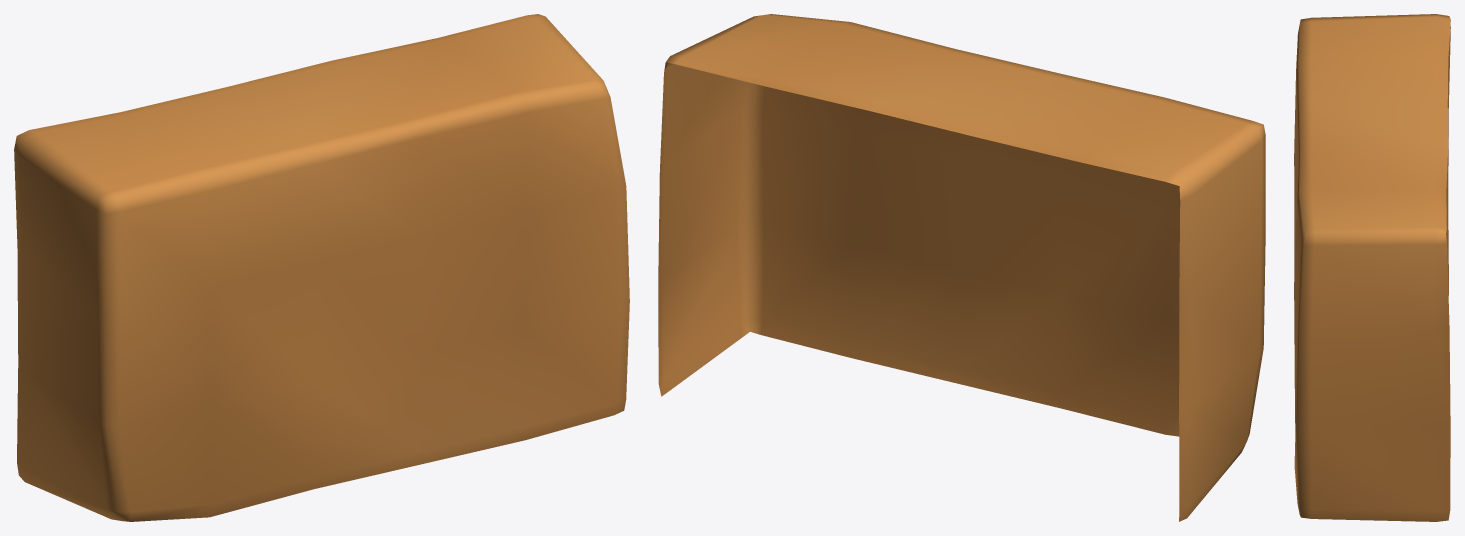
Rendered from block_b.glb.
3 views of the same model, side by side, from view 1: azimuth 30°, elevation 25°; view 2: azimuth 150°, elevation 25°; view 3: azimuth 270°, elevation 25° (orthographic). The views are drawn at different scales.
Visible parts, largest first — view 1: block_b; view 2: block_b; view 3: block_b.
Part boxes in pixels (x1=…): block_b: x1=14, y1=14, x2=629, y2=521; block_b: x1=658, y1=14, x2=1265, y2=521; block_b: x1=1294, y1=14, x2=1450, y2=521.
Size of the model in its own units: 1.21 by 0.7549 by 0.3651.
